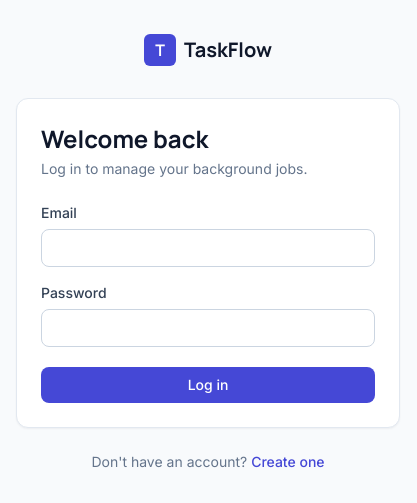
Test: LoginPage › shows the server error message on invalid credentials and stays on the page
In the field labelled "Email": (208, 248) top-left (41, 229), bottom-right (375, 267), type "ada@example.com"
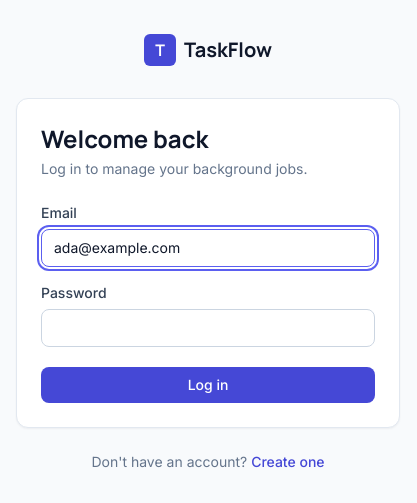
In the password field labelled "Password": (208, 328) top-left (41, 309), bottom-right (375, 347), type "WrongPassword"
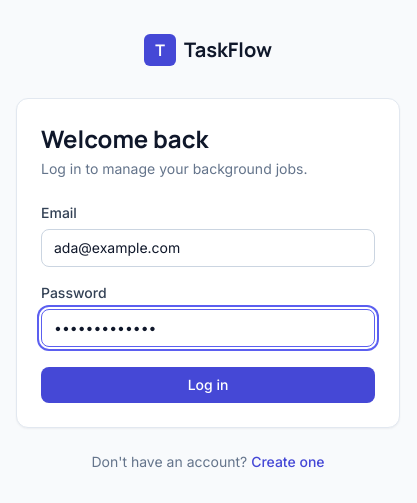
Submit the form "Log in", box top-left (41, 203), bottom-right (375, 403)
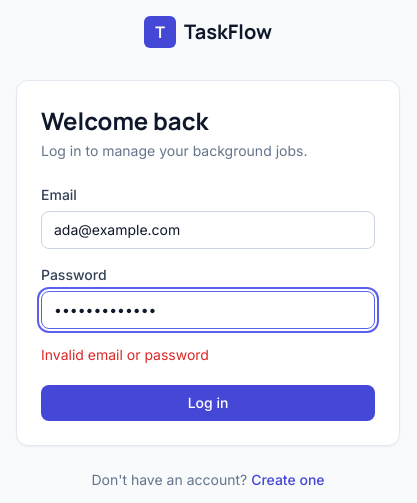
Now the text "Invalid email or password" is shown, box top-left (41, 346), bottom-right (209, 363)
